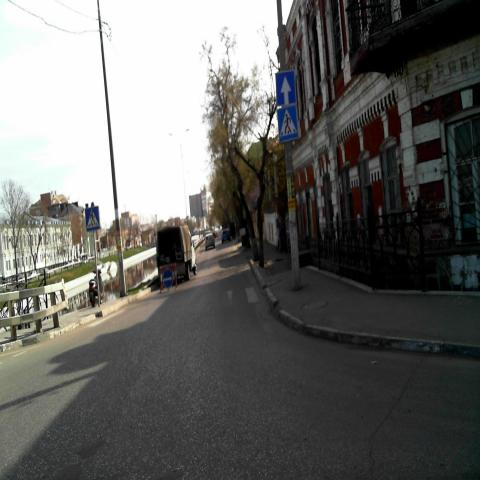4_1_2_1: (162, 270, 174, 288)
